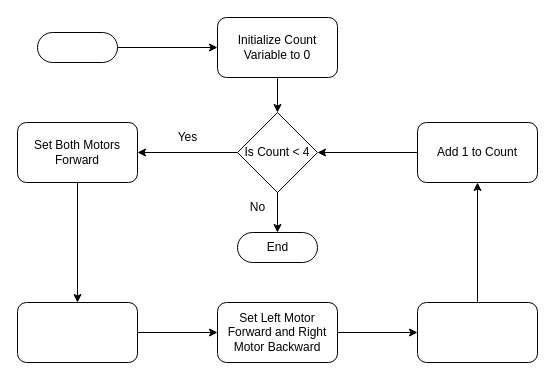
The diagram is 555 pixels wide and 380 high, and some of its shapes have lost their labels. The centre of each missing label's shape, as x and y in pixels:
Start: pixel 77 47
Wait 2 Seconds: pixel 77 332
Wait Until Turned 90 Degrees: pixel 477 332
